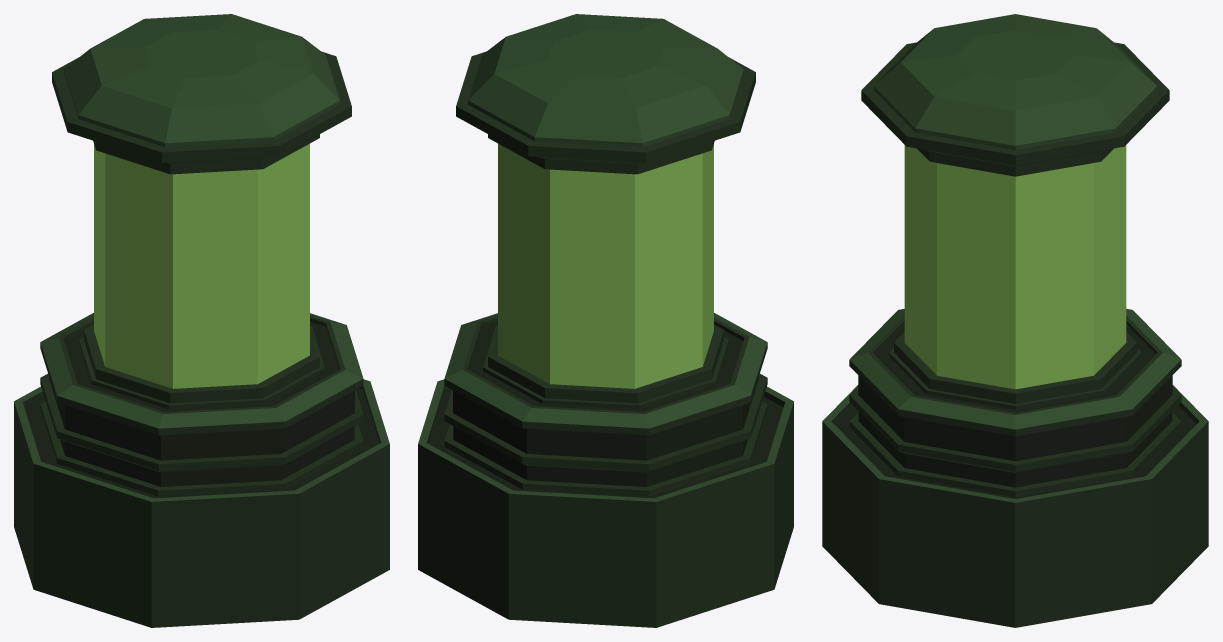
File: greenTank.fbx
3 renders of one model, left to right at view 1: azimuth 30°, elevation 25°; view 2: azimuth 150°, elevation 25°; view 3: azimuth 270°, elevation 25°, orthographic.
Parts seen in each view (by area): view 1: Cylinder; view 2: Cylinder; view 3: Cylinder.
Part boxes in pixels (x1,y1,x2,y2): Cylinder: [14, 14, 389, 627]; Cylinder: [418, 14, 793, 627]; Cylinder: [822, 14, 1208, 627].
Bounding box in the file's own units: 435 × 610 × 435.
